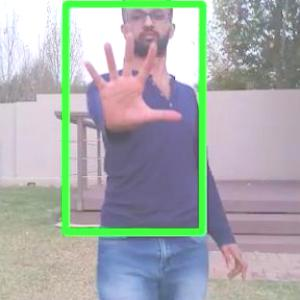follow_hand: (80, 29, 184, 133)
